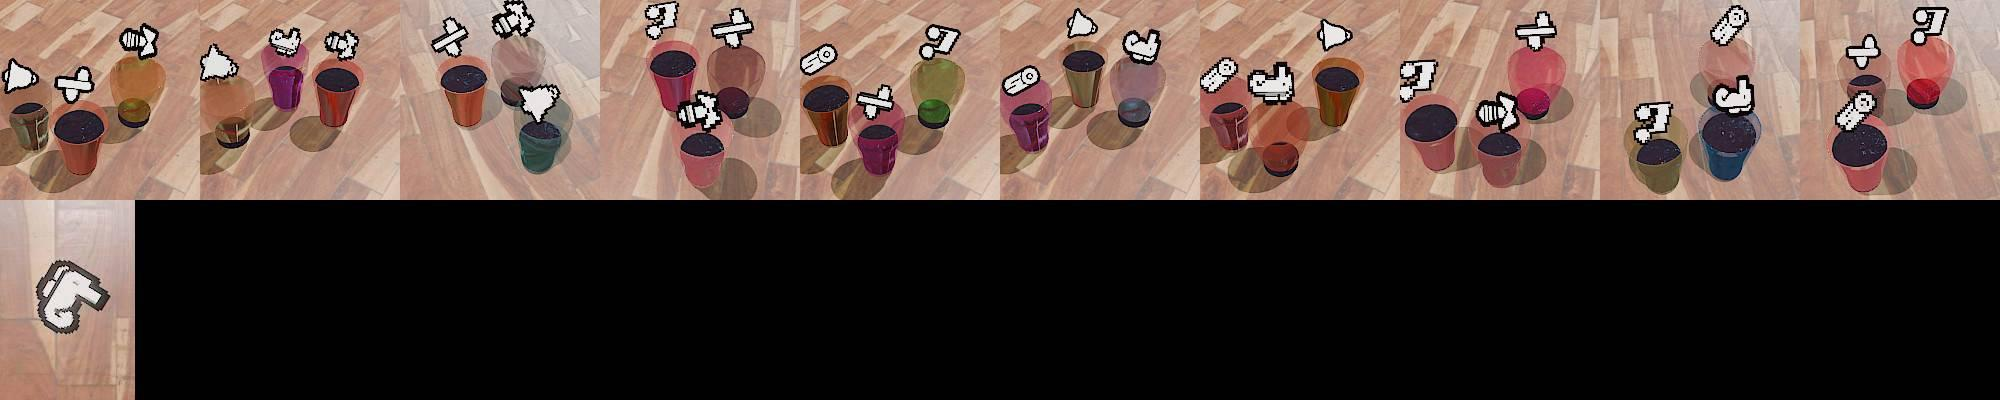icon: (34, 261, 111, 334), (1247, 60, 1296, 105), (1475, 89, 1523, 131), (676, 89, 723, 131), (514, 81, 563, 121), (1835, 88, 1880, 131), (1711, 74, 1756, 116), (710, 7, 755, 48), (1709, 4, 1750, 49), (1514, 11, 1560, 51), (1401, 58, 1441, 103), (490, 0, 535, 40), (1634, 98, 1675, 139), (430, 17, 469, 60), (918, 22, 961, 60), (199, 44, 240, 83), (53, 65, 95, 103), (854, 82, 897, 119), (1198, 57, 1237, 96), (1122, 27, 1161, 65), (1910, 6, 1949, 44), (1843, 33, 1883, 70), (643, 1, 680, 40), (119, 24, 159, 60), (1, 58, 40, 94), (799, 43, 839, 78), (1001, 63, 1042, 97), (1318, 16, 1352, 52), (323, 29, 360, 61), (268, 26, 303, 59), (1067, 8, 1098, 40)
